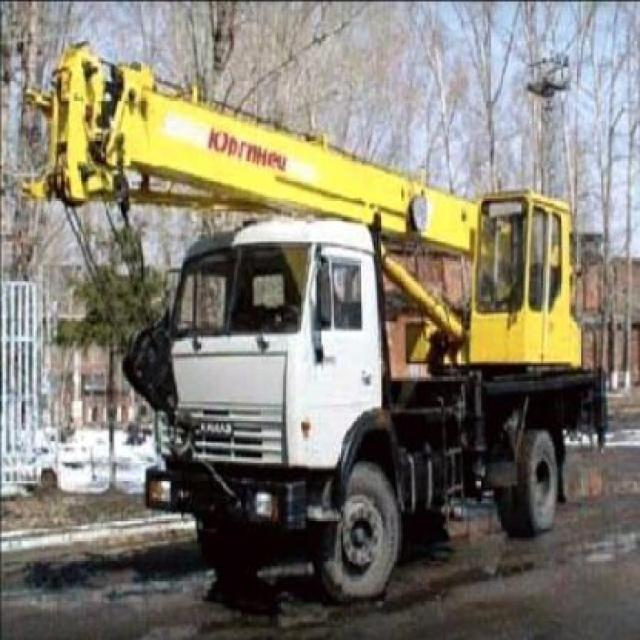Mobile Crane: (45, 48, 606, 590)
